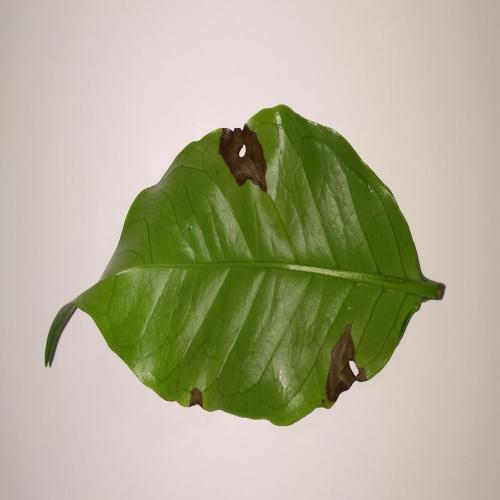leaf: (32, 91, 460, 430)
phoma: (214, 109, 280, 203), (320, 315, 369, 422), (183, 385, 209, 414)
